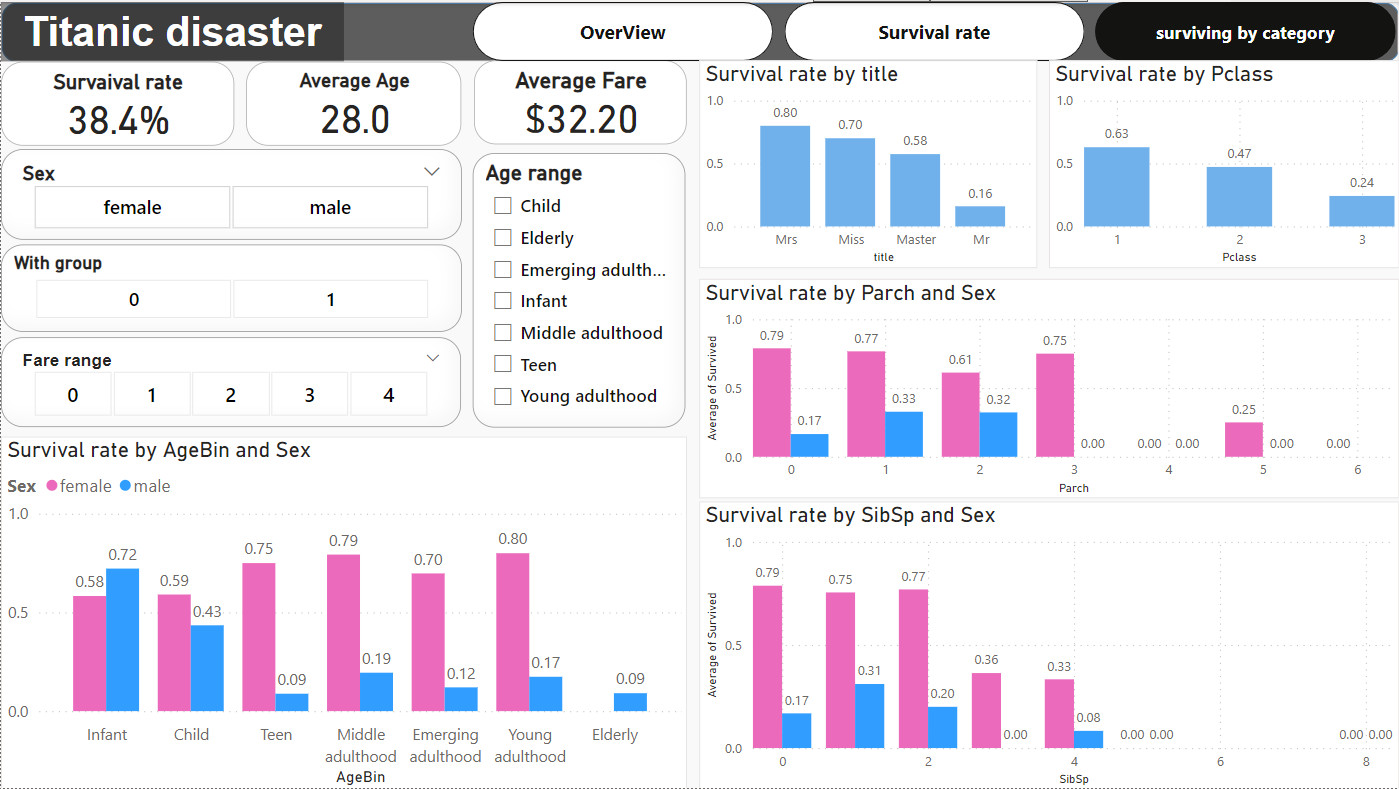

This screenshot's page, from the dashboard's own definition file:
{"tool":"powerbi","page":{"name":"surviving by category","canvas":[1280,720],"ordinal":2},"visuals":[{"type":"clusteredColumnChart","title":"Survival rate by AgeBin and Sex","fields":{"Category":["EDA.AgeBin"],"Y":["Avg(EDA.Survived)"],"Series":["EDA.Sex"]},"box":[0,397.4,627.8,323.2],"z":0},{"type":"slicer","fields":{"Values":["EDA.Sex"]},"box":[0,134.9,421.6,82.8],"z":1000},{"type":"slicer","title":"Pclass","fields":{"Values":["EDA.FareBin"]},"box":[0,307,421,82],"z":2000},{"type":"slicer","title":"Age range","fields":{"Values":["EDA.AgeBin"]},"box":[432.4,138,194.7,251.4],"z":3000},{"type":"slicer","title":"With group","fields":{"Values":["EDA.with_group"]},"box":[0,222.3,421.6,79.7],"z":4000},{"type":"shape","box":[0,0,1279.5,54.3],"z":5000},{"type":"card","title":"Survaival rate","fields":{"Values":["_measures.survival rate"]},"box":[0,54.3,213.2,76.8],"z":6000},{"type":"card","title":"Average Fare","fields":{"Values":["Avg(EDA.Fare)"]},"box":[433.1,53,194.7,76.8],"z":7000},{"type":"card","title":"Average Age","fields":{"Values":["Median(EDA.Age)"]},"box":[223.8,54.3,197.4,76.8],"z":8000},{"type":"textbox","box":[0,0,313.9,54.3],"z":9000},{"type":"bookmarkNavigator","box":[432.3,0,847.7,54.3],"z":10000},{"type":"clusteredColumnChart","title":"Survival rate by SibSp and Sex","fields":{"Y":["Avg(EDA.Survived)"],"Category":["EDA.SibSp"],"Series":["EDA.Sex"]},"box":[639.4,456.9,640.9,263.7],"z":11000},{"type":"clusteredColumnChart","title":"Survival rate by Parch and Sex","fields":{"Y":["Avg(EDA.Survived)"],"Series":["EDA.Sex"],"Category":["EDA.Parch"]},"box":[639.4,253,640.9,200.9],"z":12000},{"type":"clusteredColumnChart","title":"Survival rate by Pclass","fields":{"Y":["Avg(EDA.Survived)"],"Category":["EDA.Pclass"]},"box":[959.8,53.7,320.4,190.1],"z":13000},{"type":"clusteredColumnChart","title":"Survival rate by title","fields":{"Y":["Avg(EDA.Survived)"],"Category":["EDA.title"]},"box":[639.4,53.7,309.7,190.1],"z":14000}]}

Visuals, with their boxes in screenshot pixels (x1, y1, x2, y2), scaled from the page's 1280x720 canvas onto the 1399x789 screenshot:
"Survival rate by AgeBin and Sex" clusteredColumnChart: <box>0,435,686,788</box>
slicer - EDA.Sex: <box>0,148,461,239</box>
"Pclass" slicer: <box>0,336,460,426</box>
"Age range" slicer: <box>473,151,685,427</box>
"With group" slicer: <box>0,244,461,331</box>
shape: <box>0,0,1398,60</box>
"Survaival rate" card: <box>0,60,233,144</box>
"Average Fare" card: <box>473,58,686,142</box>
"Average Age" card: <box>245,60,460,144</box>
textbox: <box>0,0,343,60</box>
bookmarkNavigator: <box>472,0,1398,60</box>
"Survival rate by SibSp and Sex" clusteredColumnChart: <box>699,501,1398,788</box>
"Survival rate by Parch and Sex" clusteredColumnChart: <box>699,277,1398,497</box>
"Survival rate by Pclass" clusteredColumnChart: <box>1049,59,1398,267</box>
"Survival rate by title" clusteredColumnChart: <box>699,59,1037,267</box>
